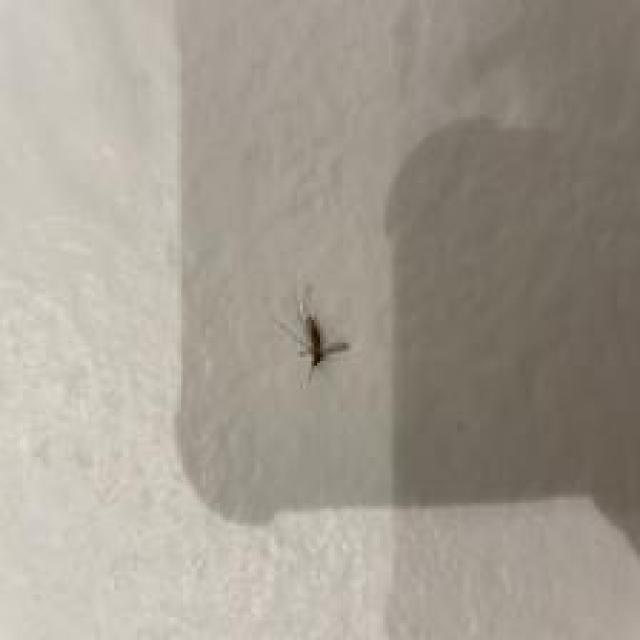Culex: (274, 284, 352, 384)
